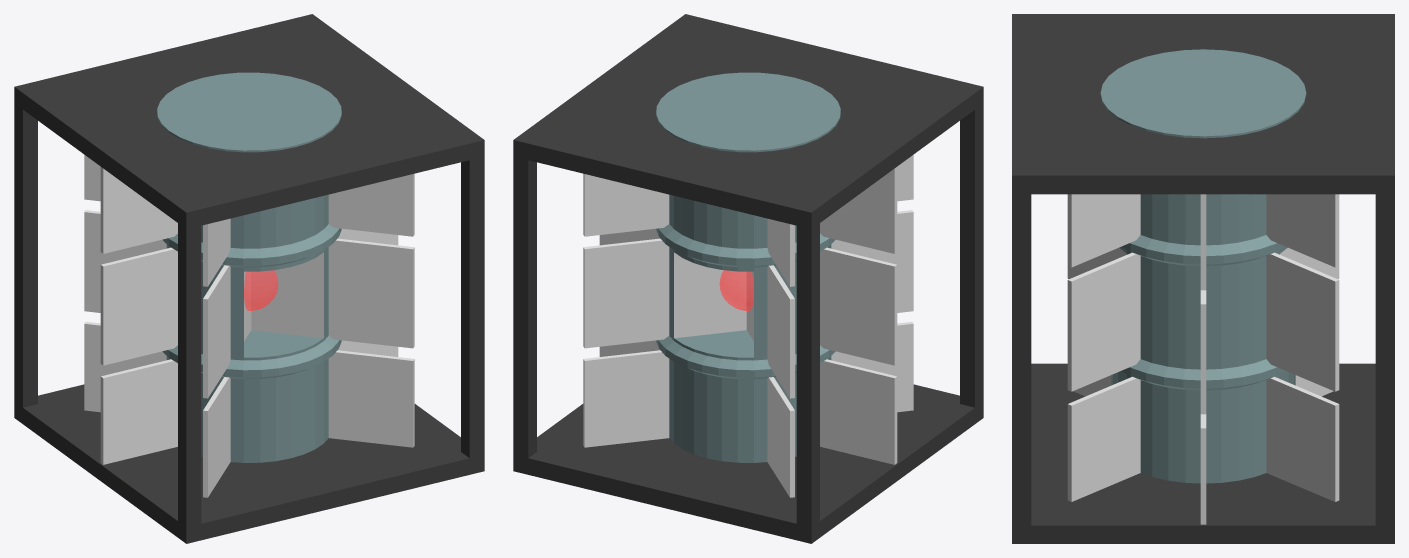
The model's file is mmrtg.fbx.
The picture shows the model from 3 angles, left to right: view 1: azimuth 30°, elevation 25°; view 2: azimuth 150°, elevation 25°; view 3: azimuth 270°, elevation 25°; orthographic projection. The views are drawn at different scales.
Parts seen in each view (by area): view 1: Cylinder; view 2: Cylinder; view 3: Cylinder.
Boxes of the visible parts, x1,y1,x2,y2 form: Cylinder: (14, 14, 484, 543); Cylinder: (513, 14, 983, 543); Cylinder: (1012, 14, 1394, 543).
Bounding box in the file's own units: 368 × 368 × 396.
